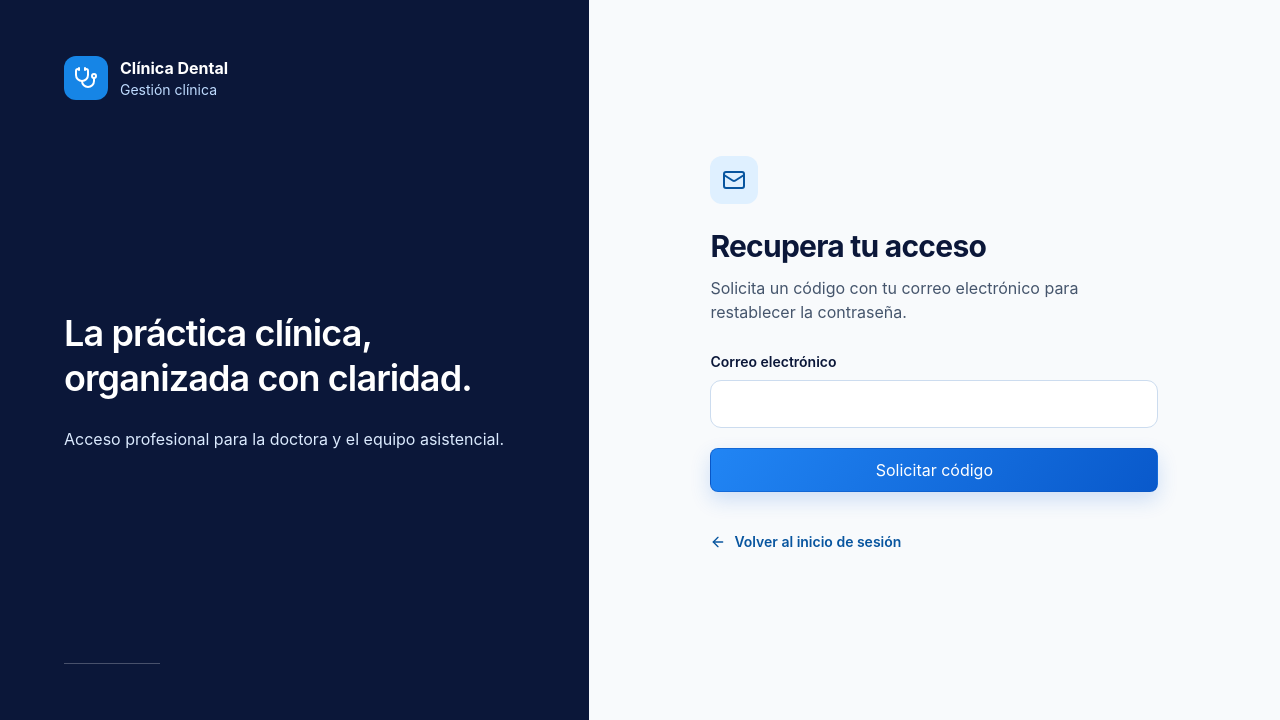
Scenario: AppRouter › offers the confirmed password recovery flow
The width and height of the screenshot is (1280, 720).
Check: the heading "Recupera tu acceso" is shown, box [710, 228, 986, 264]
Check: the field labelled "Correo electrónico" is shown, box [710, 380, 1158, 428]
Click the link "Volver al inicio de sesión" at (806, 542), box [710, 533, 901, 550]
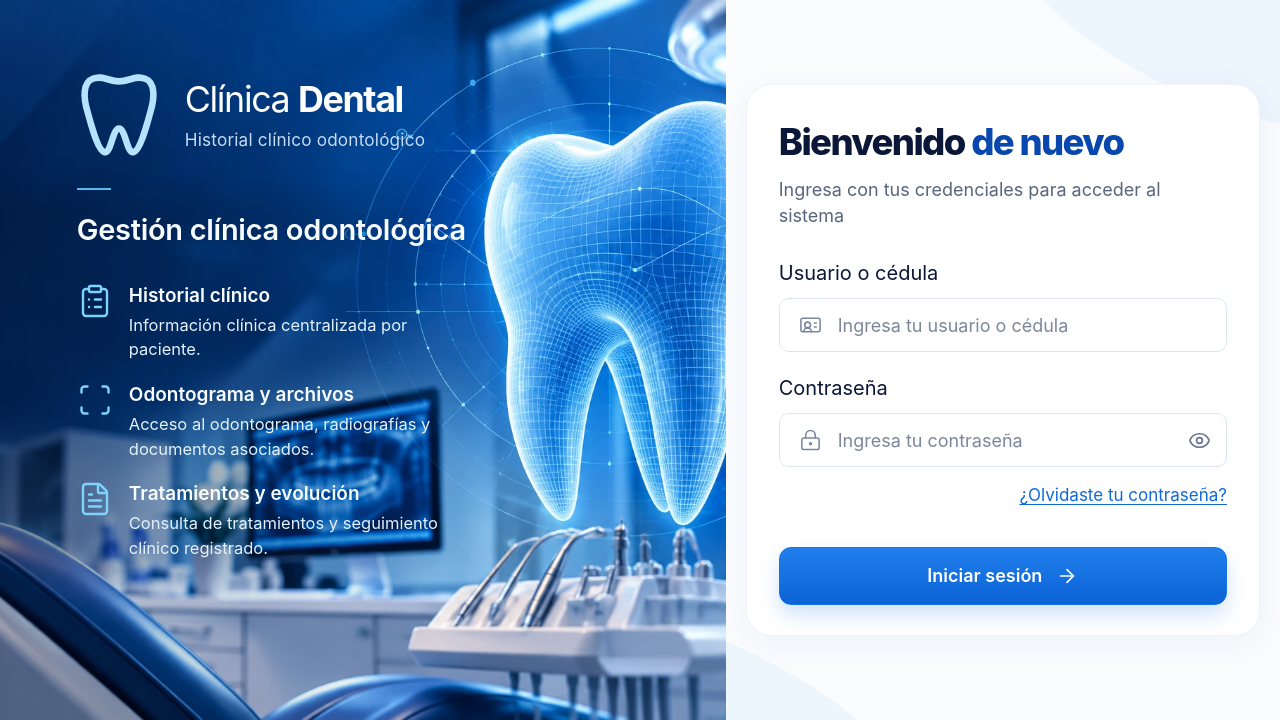
Check: the heading "Bienvenido de nuevo" is shown, box [779, 120, 1124, 164]
